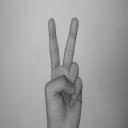hand: (44, 15, 83, 127)
